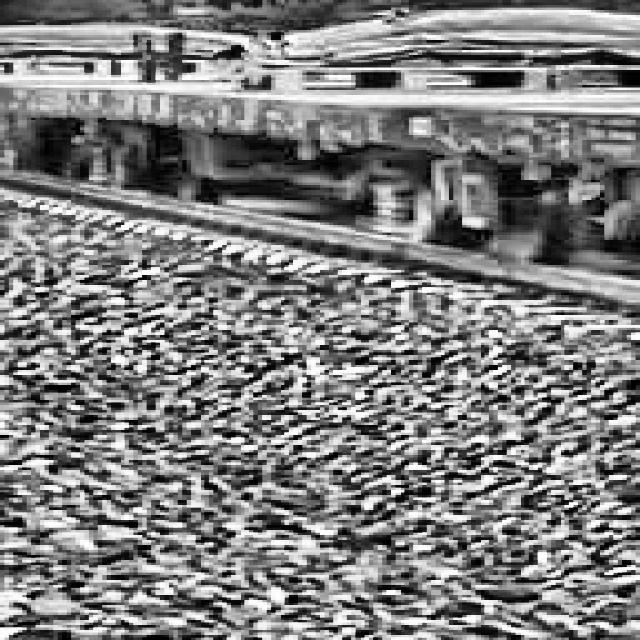Gerbong: (0, 75, 640, 255), (453, 105, 640, 330), (0, 62, 253, 185)
